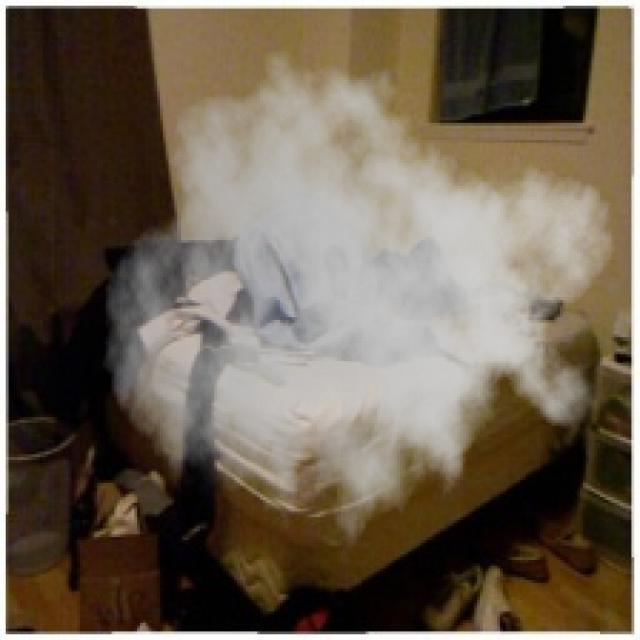Smoke: (102, 37, 618, 572)
